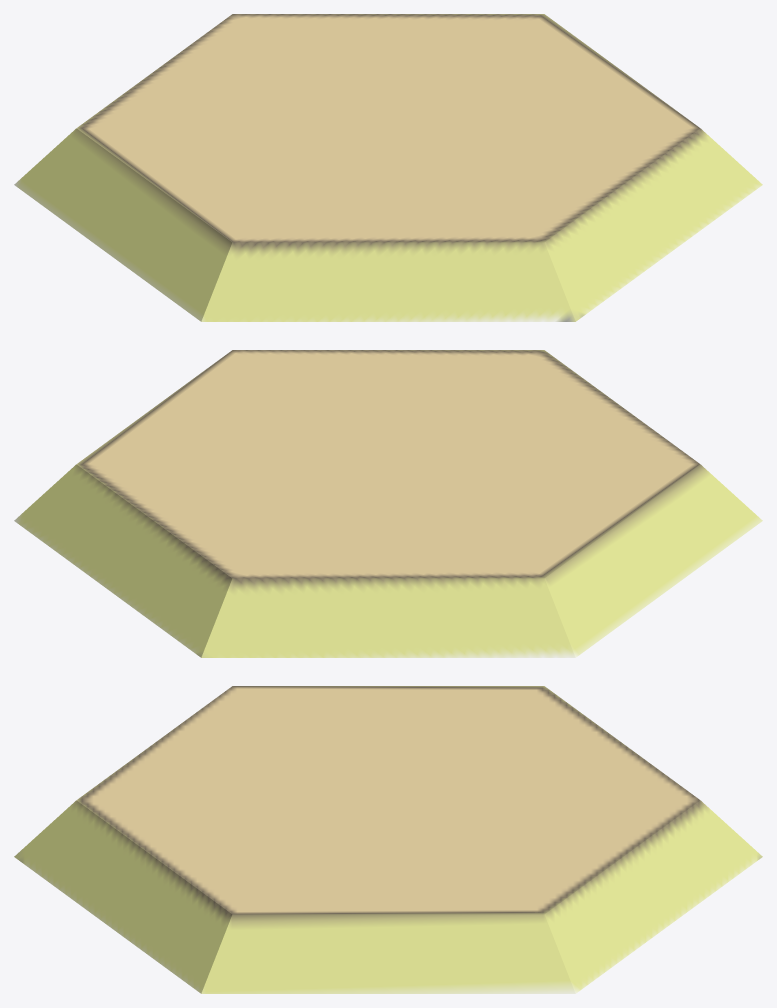
File: Hex_Desert_Shore.fbx
3 views of the same model, one above another, from view 1: azimuth 30°, elevation 25°; view 2: azimuth 150°, elevation 25°; view 3: azimuth 270°, elevation 25° (orthographic).
Parts seen in each view (by area): view 1: Hex_Desert_Shore; view 2: Hex_Desert_Shore; view 3: Hex_Desert_Shore.
Boxes of the visible parts, box(x1,y1,x2,y2) form: Hex_Desert_Shore: box(14, 14, 762, 321); Hex_Desert_Shore: box(14, 350, 762, 657); Hex_Desert_Shore: box(14, 686, 762, 993).
Bounding box in the file's own units: 1039 × 100 × 1200.
Materials: 1 (1 with a texture image).
